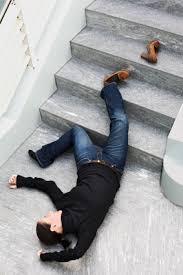falling: (16, 69, 136, 263)
